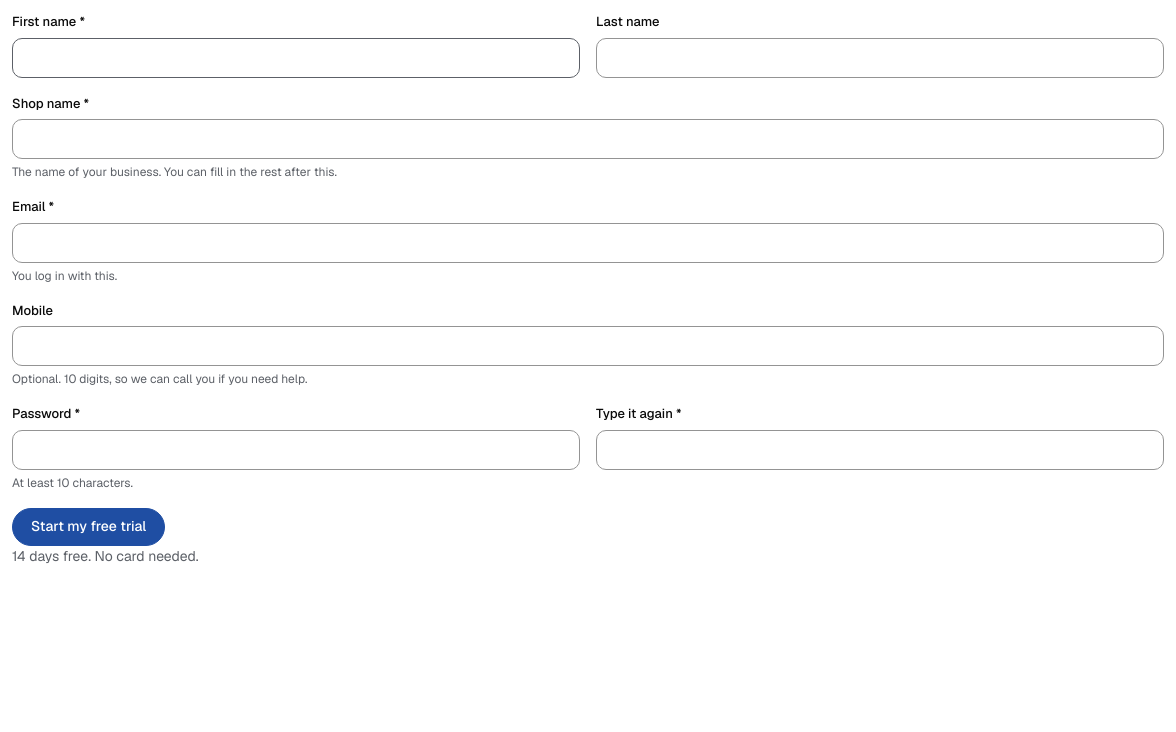
Test case: SignupForm › shows the server's message when the email already has an account
Type "Lakshmi" into the field labelled "First name *". click: (296, 58)
box: x1=12 y1=38 x2=580 y2=78
Type "Lakshmi Fancy" into the field labelled "Shop name *". click: (588, 139)
box: x1=12 y1=119 x2=1164 y2=159
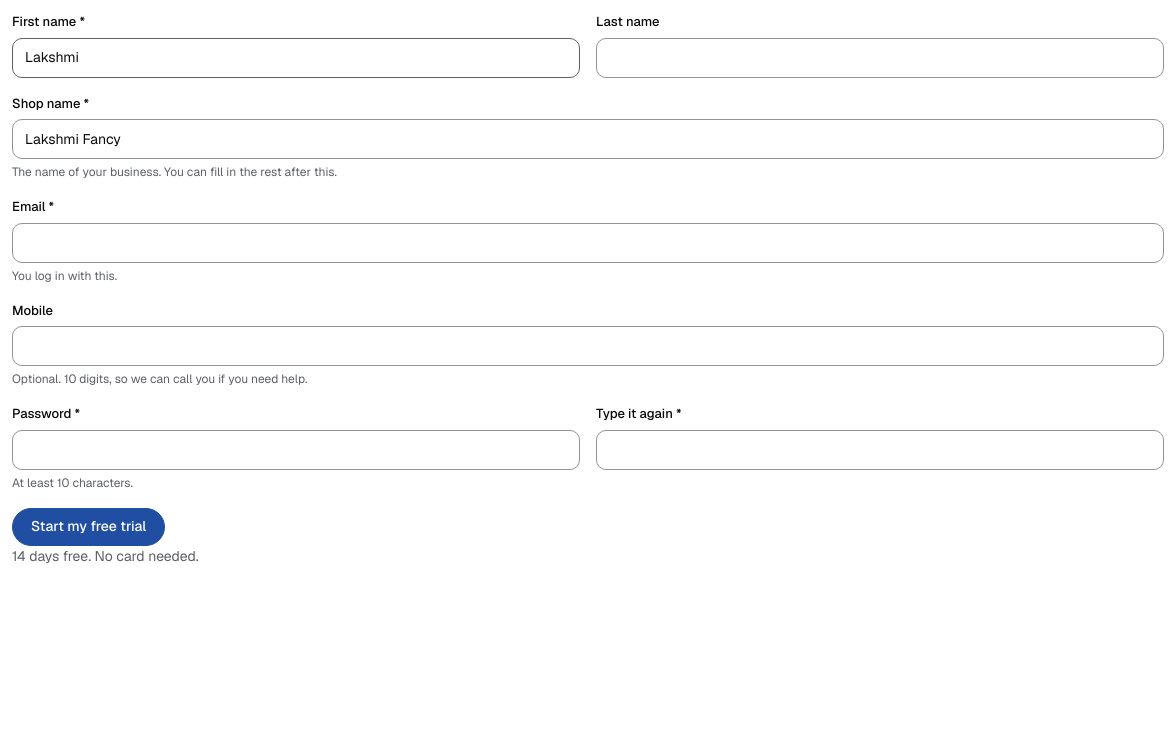
Type "Lakshmi@Fancy.test" into the field labelled "Email *". click: (588, 242)
box: x1=12 y1=222 x2=1164 y2=262
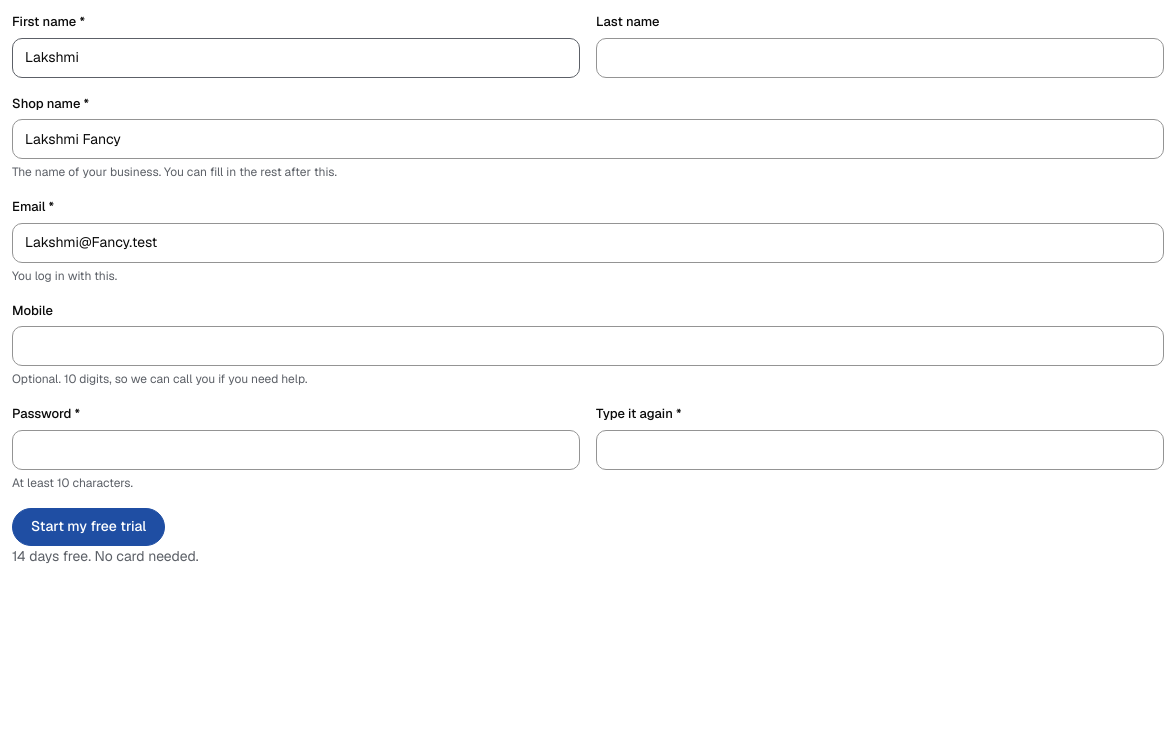
Type "9840012345" into the field labelled "Mobile". click: (588, 346)
box: x1=12 y1=326 x2=1164 y2=366
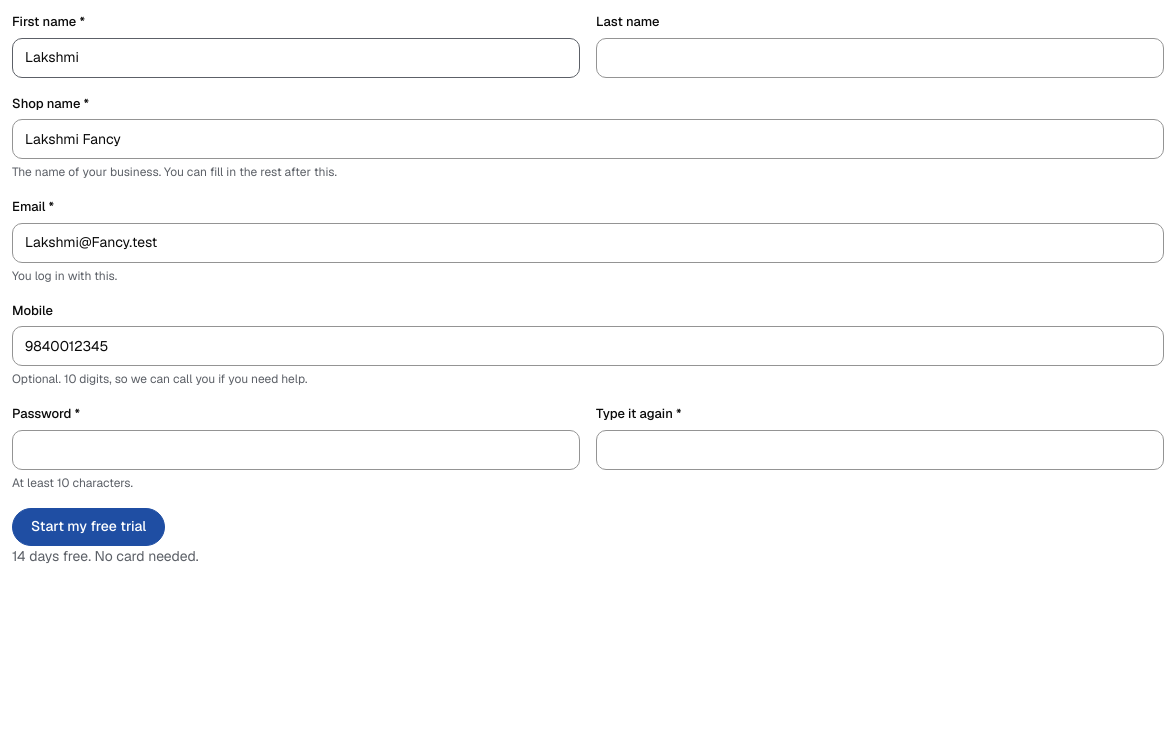
Type "Lakshmi-pass-2026" into the password field labelled "Password *". click: (296, 450)
box: x1=12 y1=430 x2=580 y2=470
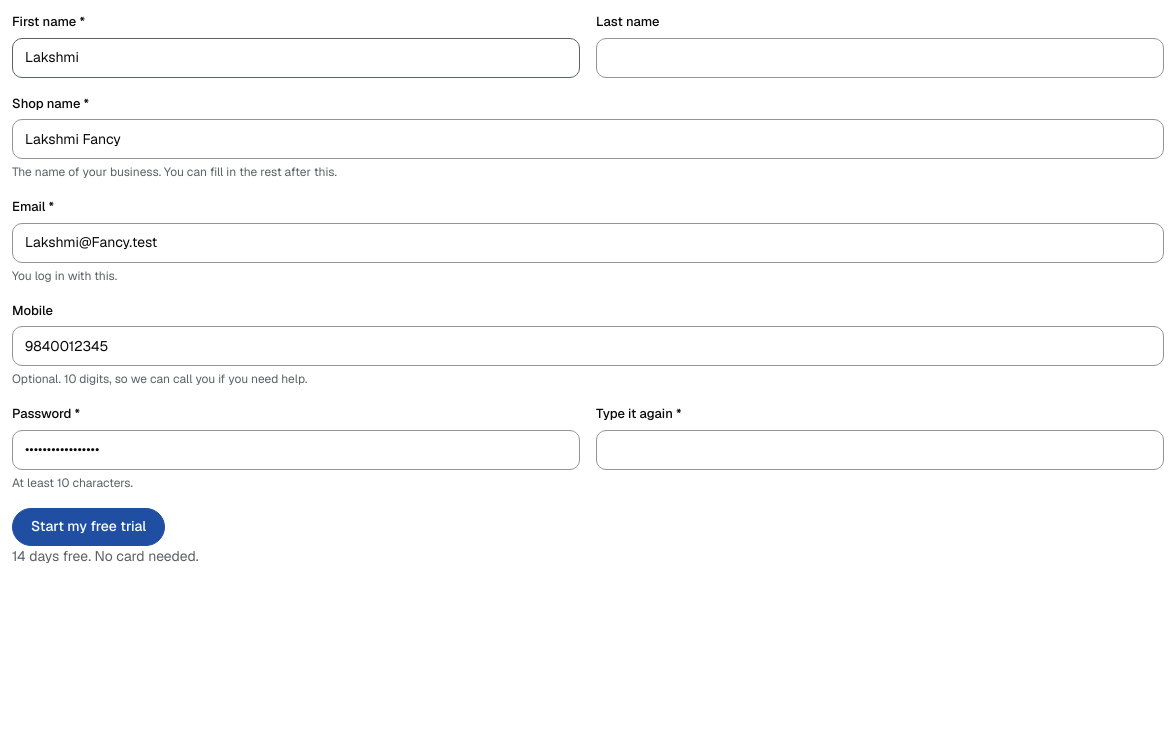
Type "Lakshmi-pass-2026" into the password field labelled "Type it again *". click: (880, 450)
box: x1=596 y1=430 x2=1164 y2=470
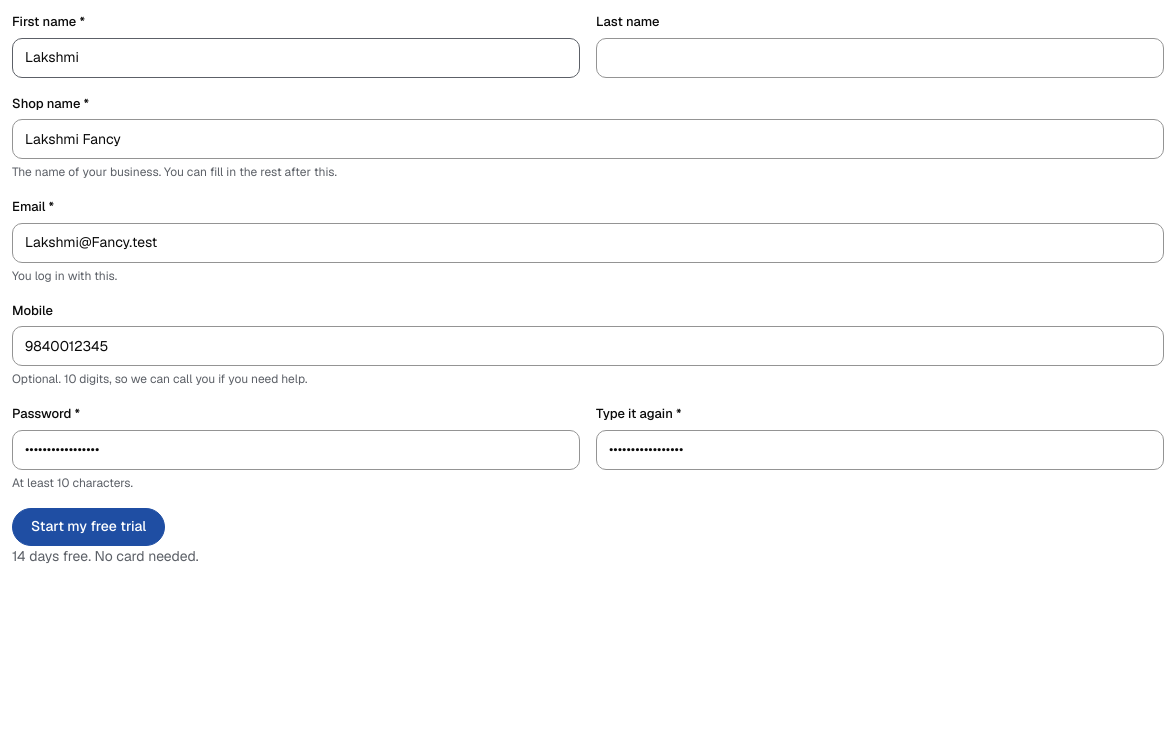
Click the button "Start my free trial". click: click(89, 526)
box: x1=12 y1=508 x2=165 y2=546
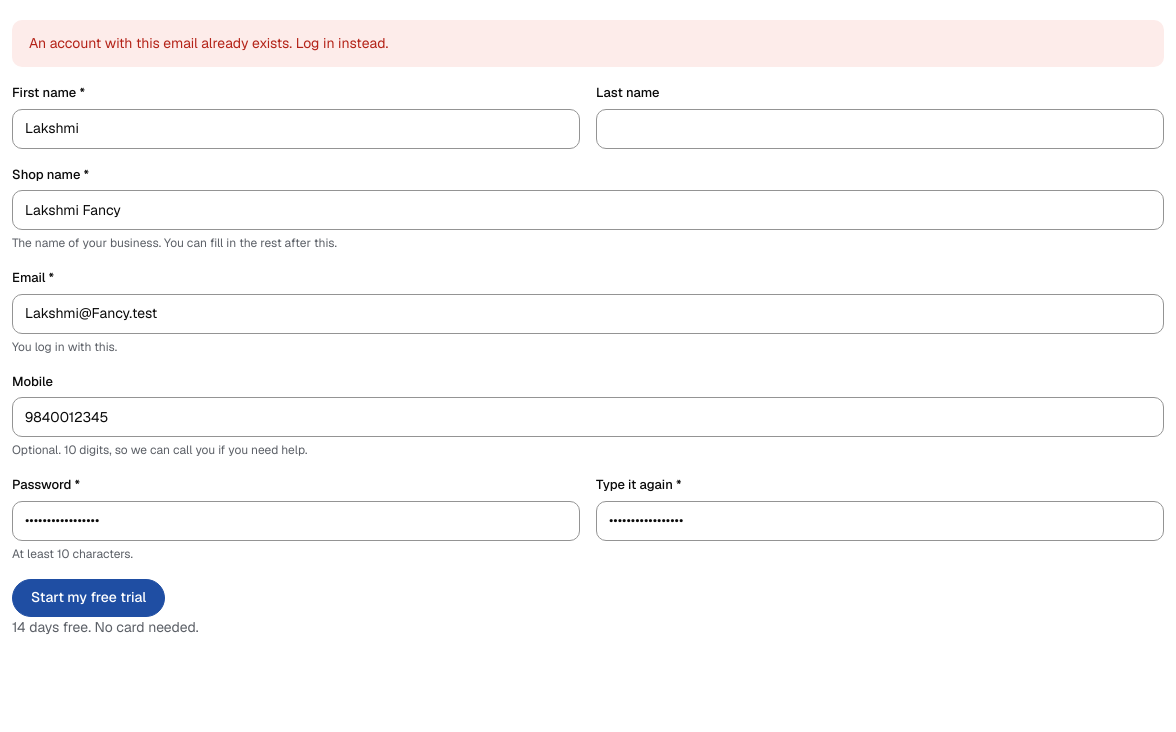
Now the message shows "already exists", box x1=29 y1=34 x2=388 y2=52
